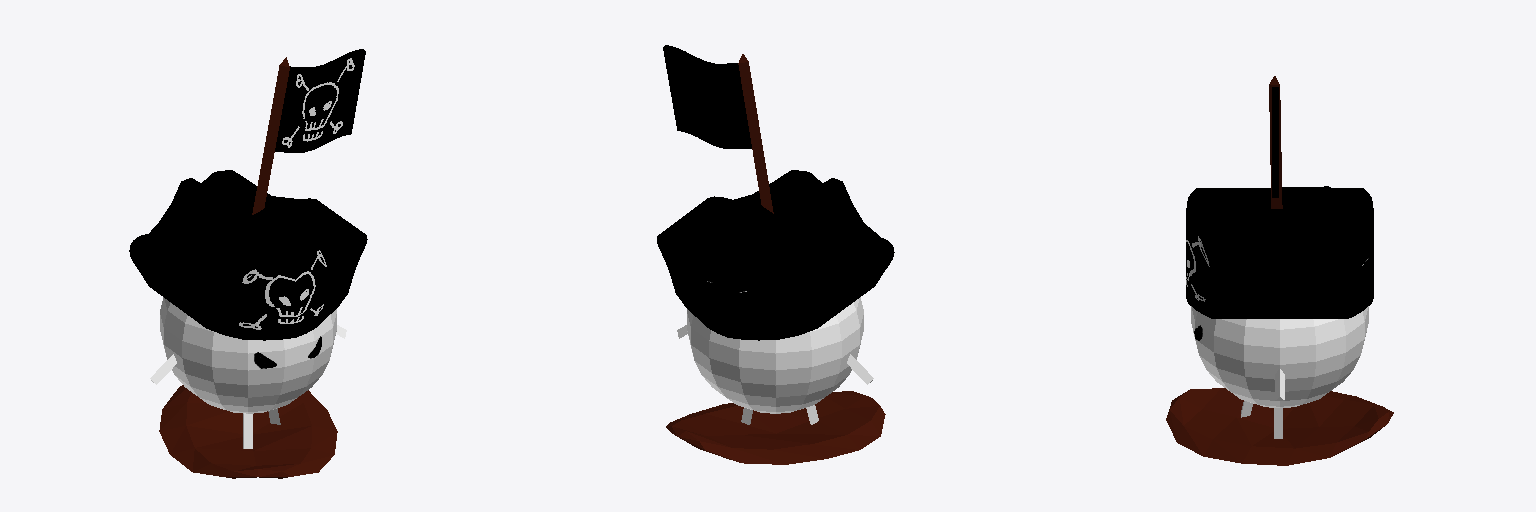
The picture shows the model from 3 angles: view 1: azimuth 30°, elevation 25°; view 2: azimuth 150°, elevation 25°; view 3: azimuth 270°, elevation 25°; orthographic projection.
Visible parts, largest first — view 1: pCube1, pSphere1, pSphere2, pCube2, pCylinder2; view 2: pCube1, pSphere1, pSphere2, pCube2, pCylinder2; view 3: pCube1, pSphere1, pSphere2, pCube2, pCylinder2.
Boxes of the visible parts, box(x1,y1,x2,y2) form: pCube1: box(129, 170, 367, 340); pSphere1: box(160, 297, 336, 413); pSphere2: box(159, 385, 337, 478); pCube2: box(275, 49, 365, 152); pCylinder2: box(252, 57, 289, 214); pCube1: box(657, 170, 894, 340); pSphere1: box(687, 297, 863, 413); pSphere2: box(666, 391, 885, 464); pCube2: box(663, 45, 751, 148); pCylinder2: box(738, 54, 773, 213); pCube1: box(1186, 186, 1373, 318); pSphere1: box(1191, 306, 1368, 407); pSphere2: box(1166, 388, 1393, 465); pCube2: box(1272, 87, 1278, 197); pCylinder2: box(1269, 76, 1282, 208).
Bounding box in the file's own units: 2.73 × 4.79 × 2.55.
6 materials, 3 textured.